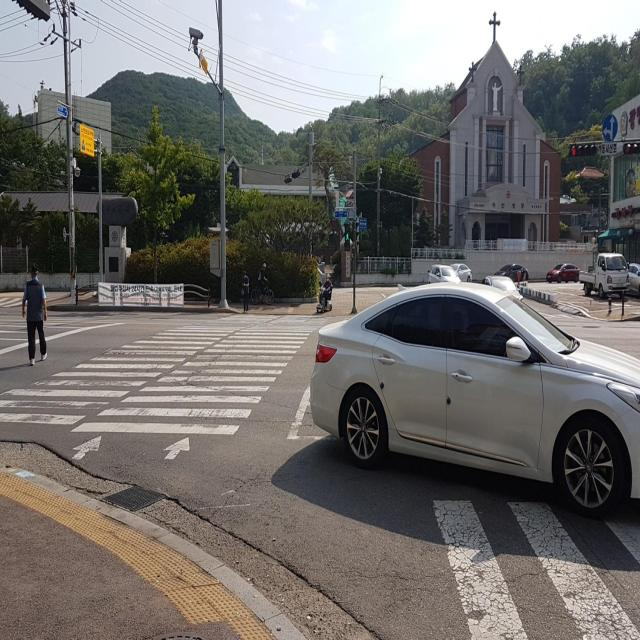초록불: (344, 222, 352, 252)
횡단보도: (0, 310, 334, 464), (433, 496, 640, 640)
